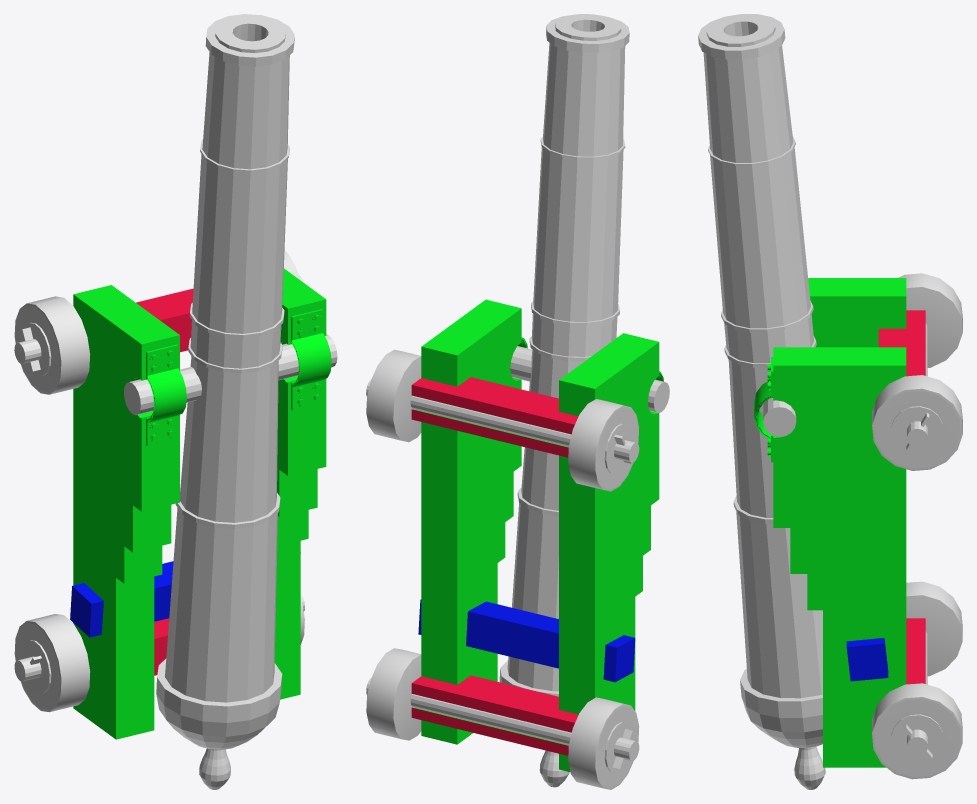
The model's file is Gun1.fbx.
3 views of the same model, side by side, from view 1: azimuth 30°, elevation 25°; view 2: azimuth 150°, elevation 25°; view 3: azimuth 270°, elevation 25° (orthographic). The views are drawn at different scales.
Visible parts, largest first — view 1: Gun, Base, Wheel; view 2: Base, Gun, Wheel; view 3: Gun, Base, Wheel.
Boxes of the visible parts, box(x1,y1,x2,y2) form: Gun: box(124, 14, 337, 789); Base: box(70, 268, 331, 739); Wheel: box(14, 251, 304, 712); Base: box(411, 299, 663, 771); Gun: box(499, 14, 669, 787); Wheel: box(366, 349, 639, 789); Gun: box(698, 14, 825, 789); Base: box(754, 278, 925, 767); Wheel: box(872, 273, 962, 779).
Size of the model in its own units: 854 by 2287 by 721.
